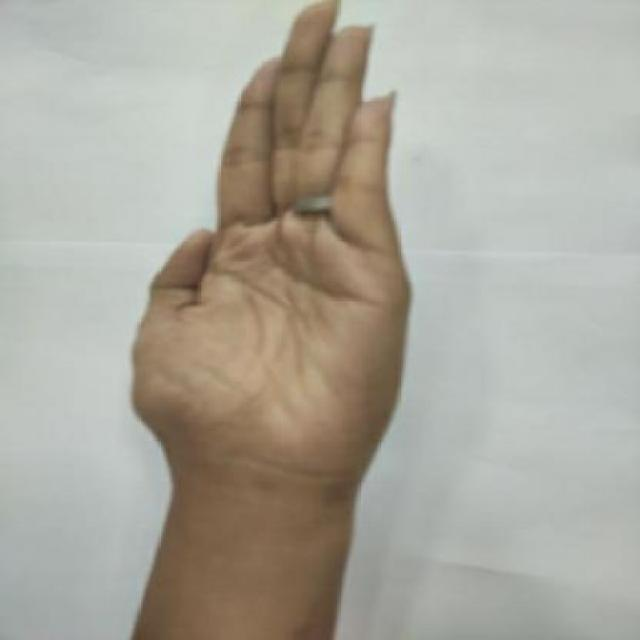without_gloves: (98, 1, 438, 554)
